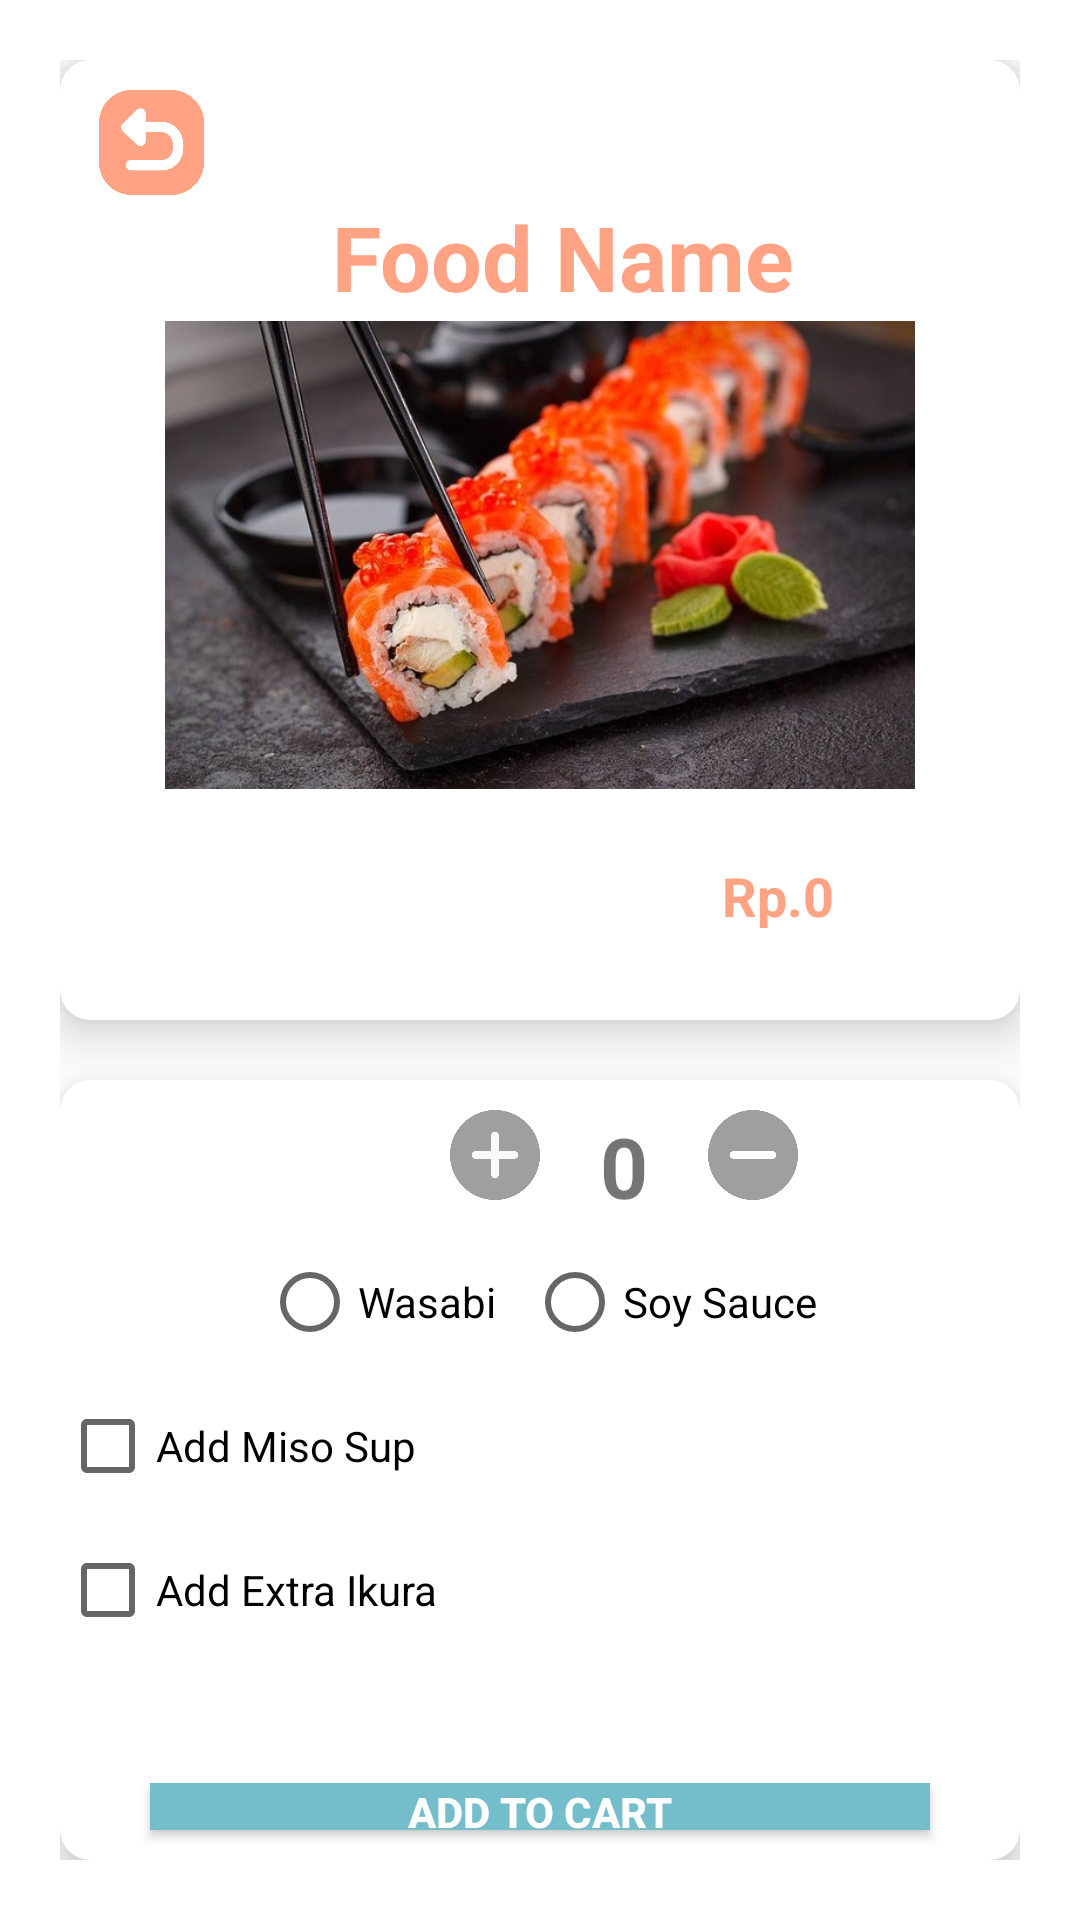

Where to tap for icons on this 1080px x 1920px app screen, as (x,y):
minus: (753,1155)
plus: (495,1155)
